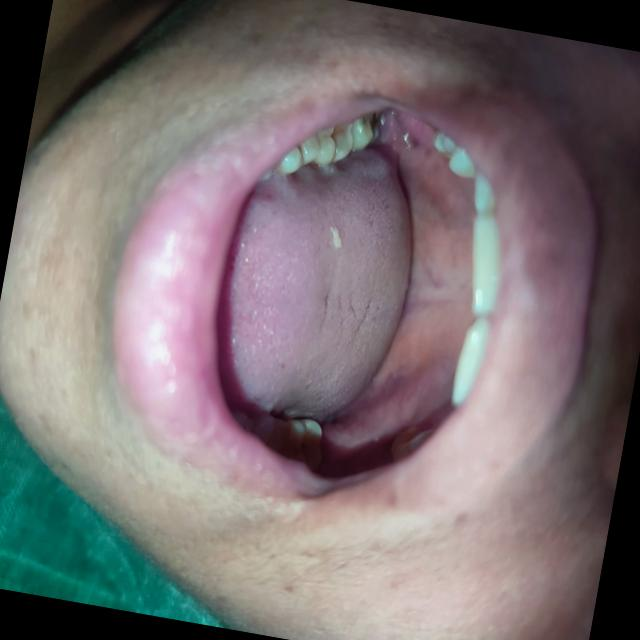No Cancer: (169, 79, 529, 484)
